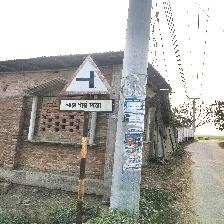Side-road-left: (58, 55, 114, 117)
